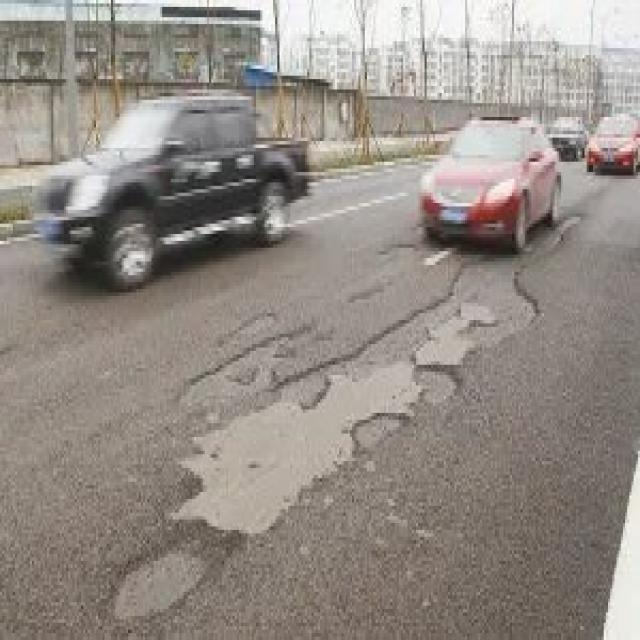Pothole: (162, 255, 538, 540)
